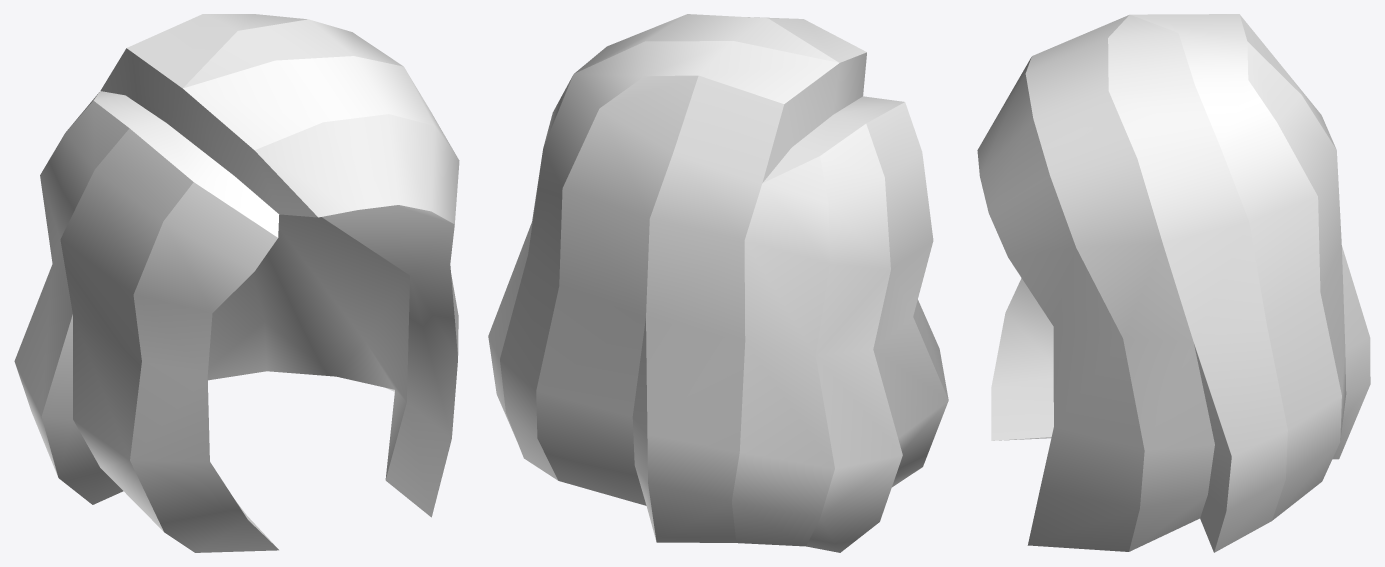
Rendered from Female_Hairs_01_v2.fbx.
The picture shows the model from 3 angles, left to right: view 1: azimuth 30°, elevation 25°; view 2: azimuth 150°, elevation 25°; view 3: azimuth 270°, elevation 25°; orthographic projection. The views are drawn at different scales.
Visible parts, largest first — view 1: Female_Hairs_01_v2; view 2: Female_Hairs_01_v2; view 3: Female_Hairs_01_v2.
Boxes of the visible parts, <box> form: Female_Hairs_01_v2: <box>14,14,459,552</box>; Female_Hairs_01_v2: <box>488,14,948,552</box>; Female_Hairs_01_v2: <box>977,14,1370,552</box>.
Bounding box in the file's own units: 68.09 × 75.58 × 59.11.
